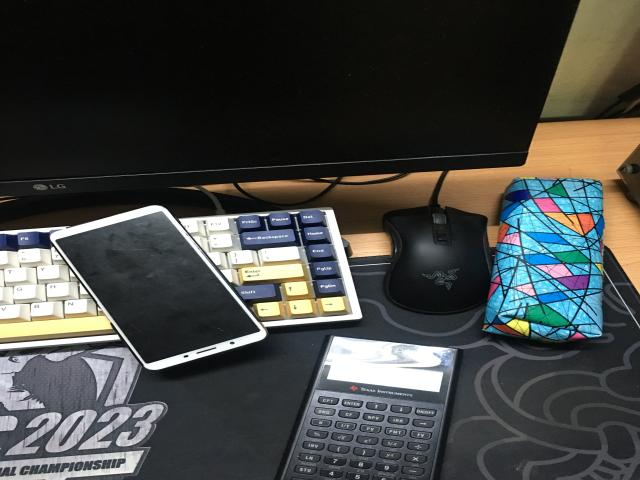Mobile phone: (50, 205, 267, 370)
Mouse: (383, 171, 492, 314)
